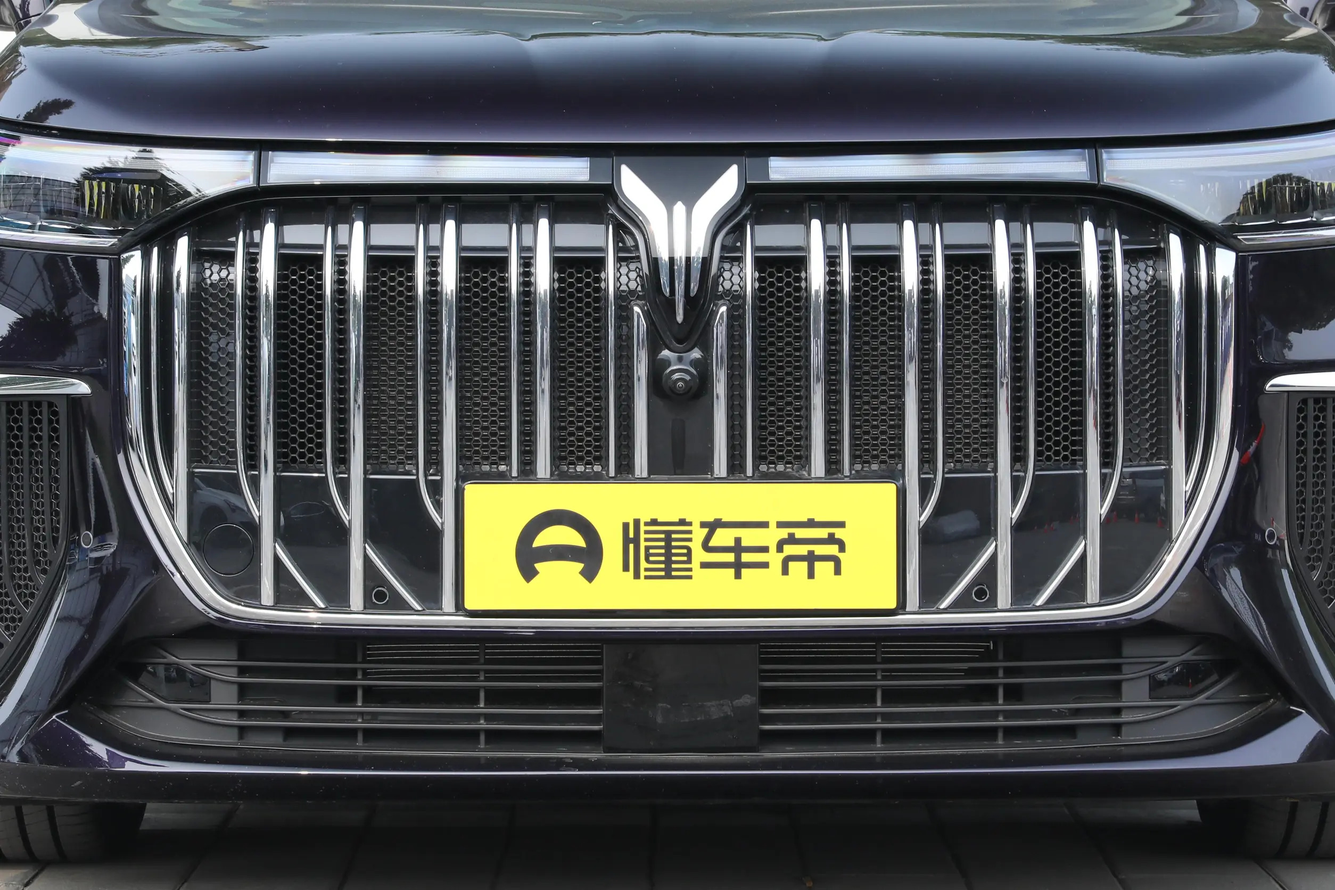VOYAH: (622, 164, 738, 322)
